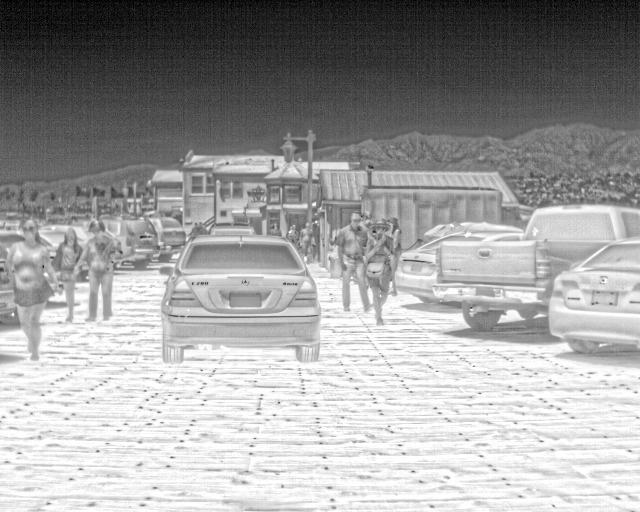bicycle: (428, 204, 639, 330), (155, 233, 323, 364), (545, 237, 639, 359), (396, 230, 524, 305), (101, 216, 159, 269), (418, 222, 522, 243), (144, 212, 187, 261), (207, 223, 258, 236)
empty: (4, 216, 62, 361), (334, 213, 372, 313), (82, 221, 119, 321), (364, 222, 398, 323), (53, 228, 84, 322), (304, 218, 322, 263), (299, 221, 313, 255), (285, 222, 298, 244)
